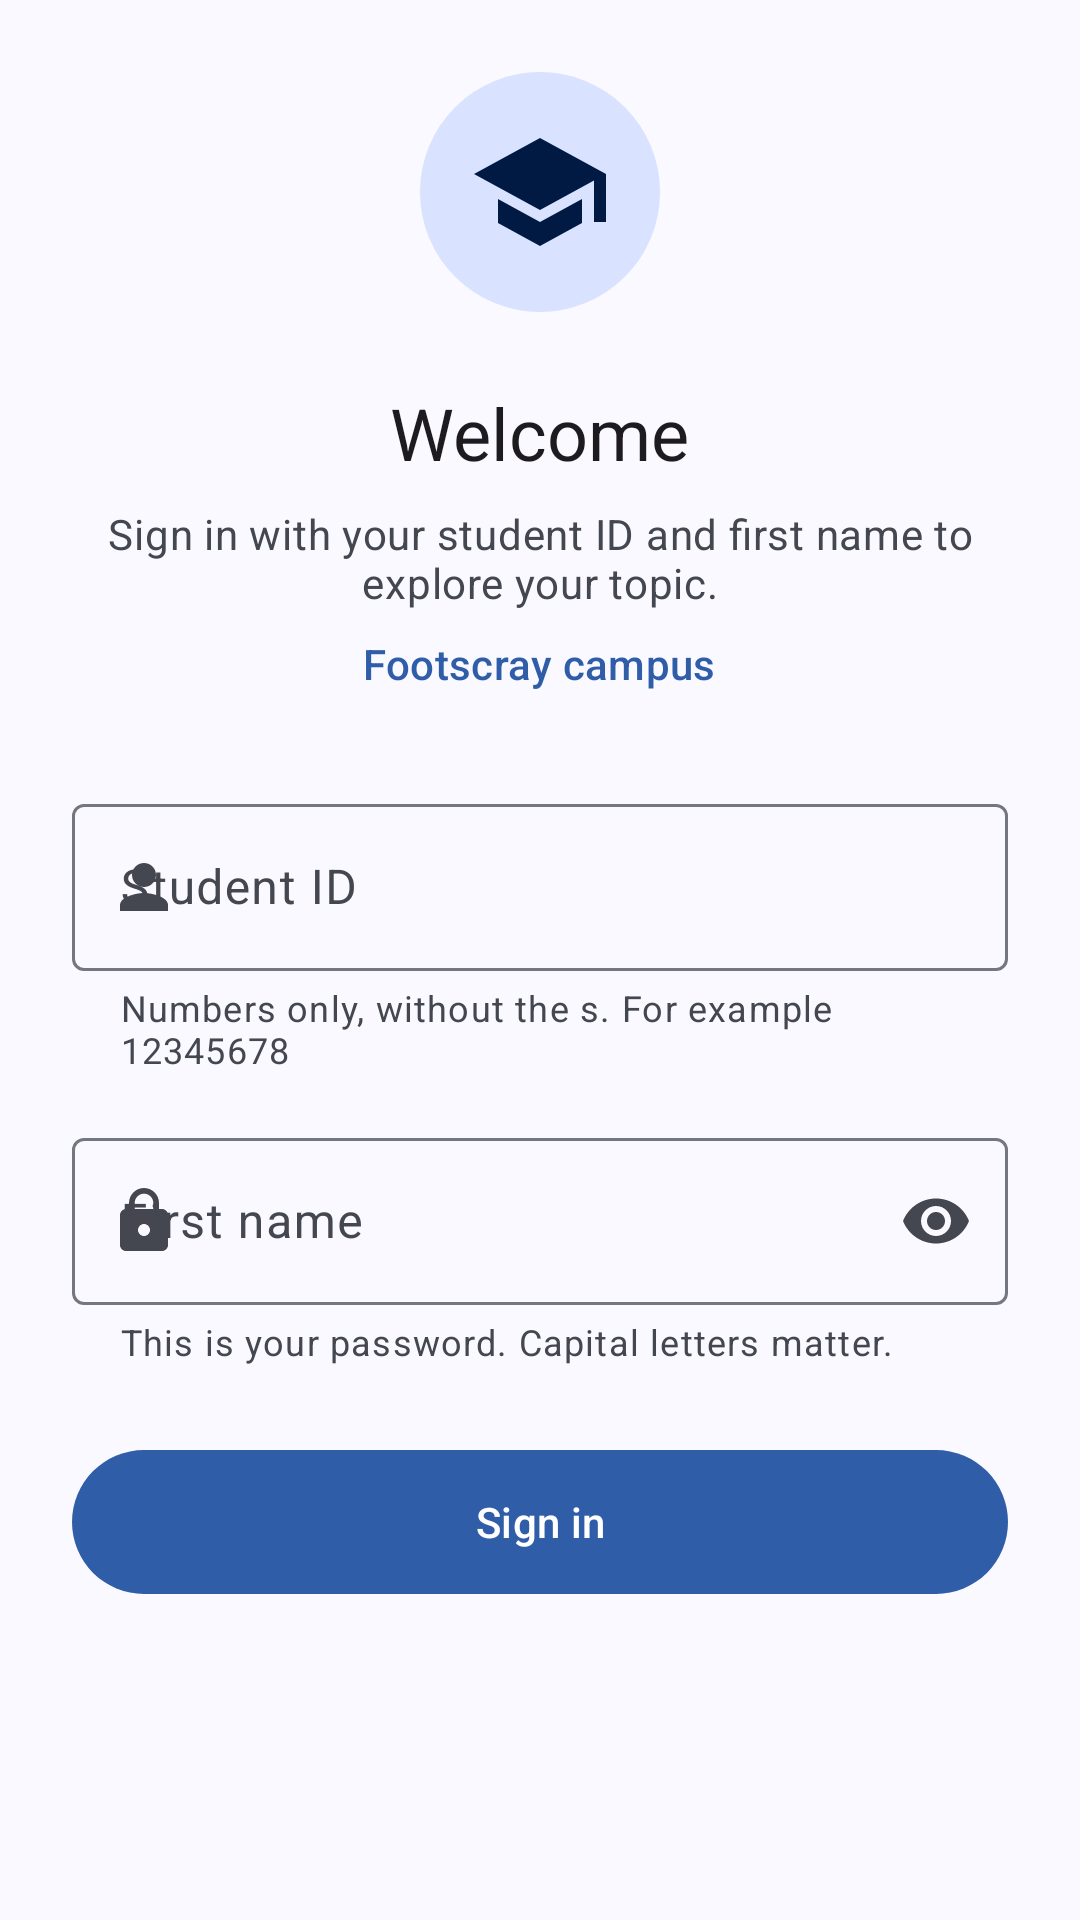

Locate icon controls on the screen. Image size 1080px×1920px, boxes as (x1, y1, x2, y2).
school: (420, 72, 660, 312)
